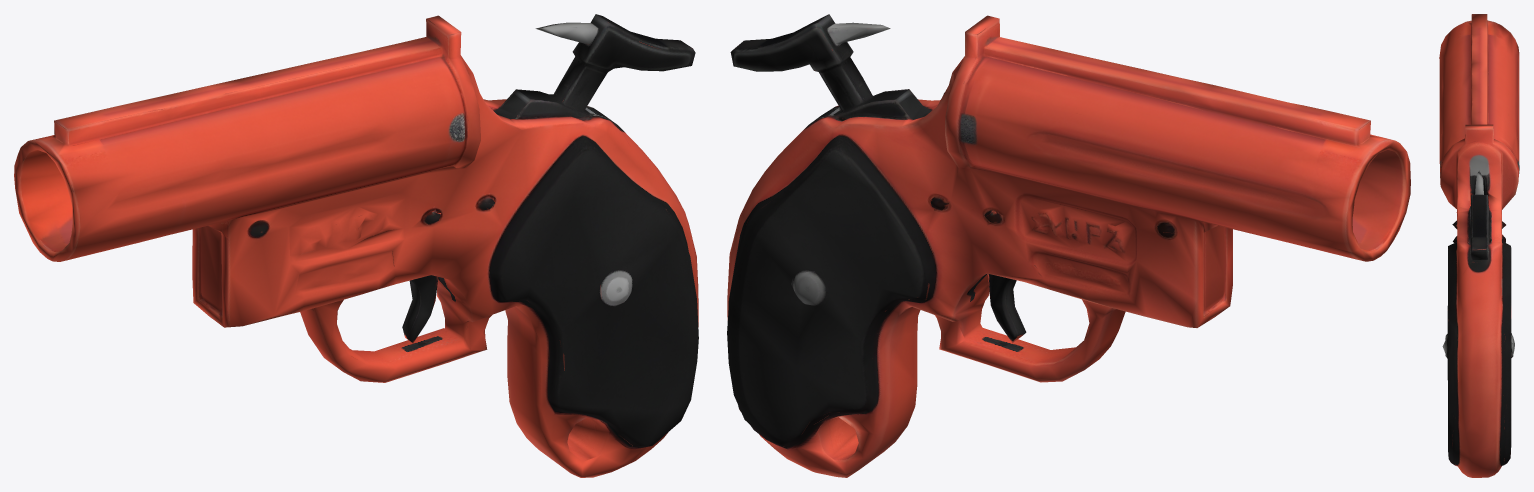
The model's file is gun_01.glb.
3 renders of one model, left to right at view 1: azimuth 30°, elevation 25°; view 2: azimuth 150°, elevation 25°; view 3: azimuth 270°, elevation 25°, orthographic. The views are drawn at different scales.
Visible parts, largest first — view 1: Mesh1.0; view 2: Mesh1.0; view 3: Mesh1.0.
Boxes of the visible parts, left/top/right/bottom form: Mesh1.0: left=14, top=14, right=698, bottom=477; Mesh1.0: left=727, top=14, right=1410, bottom=477; Mesh1.0: left=1439, top=14, right=1519, bottom=477.
Bounding box in the file's own units: 1.91 × 1.35 × 0.3293.
Materials: 1 (1 with a texture image).
